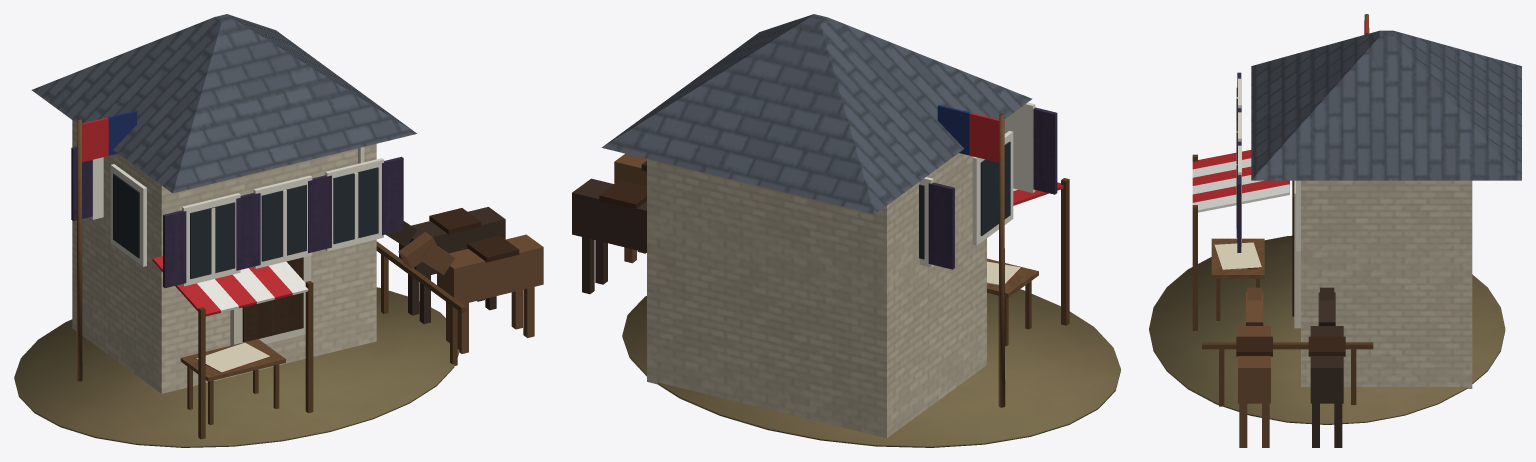
File: headquarters_br.glb
3 views of the same model, side by side, from view 1: azimuth 30°, elevation 25°; view 2: azimuth 150°, elevation 25°; view 3: azimuth 270°, elevation 25° (orthographic). The views are drawn at different scales.
Visible parts, largest first — view 1: headquarters_br; view 2: headquarters_br; view 3: headquarters_br.
Part boxes in pixels (bbox=[...]): headquarters_br: bbox=[14, 14, 543, 447]; headquarters_br: bbox=[572, 14, 1120, 447]; headquarters_br: bbox=[1149, 14, 1521, 447].
Bounding box in the file's own units: 7.75 × 5.1 × 5.65.
1 material, 1 textured.
